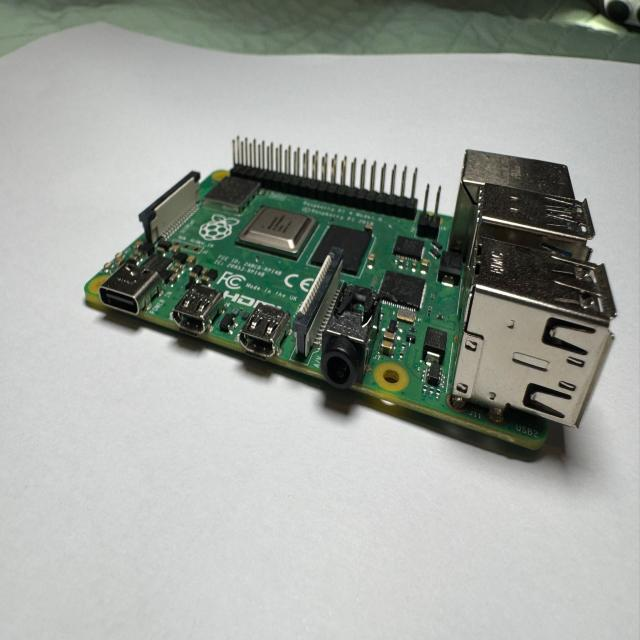CPU: (235, 204, 317, 264)
Ethernet: (441, 145, 580, 258)
GPIO: (230, 135, 424, 220)
RAM: (308, 220, 376, 280)
Raspberry: (82, 139, 617, 463)
micro-hdmi: (237, 302, 294, 360), (170, 282, 227, 336)
